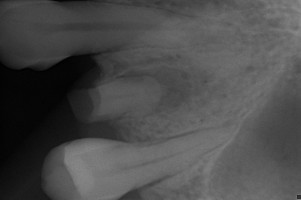Furcation Involvement: (120, 67, 198, 113)
